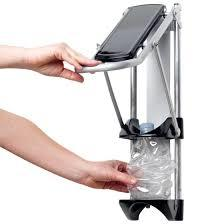Plastic bottle: (126, 122, 175, 199)
